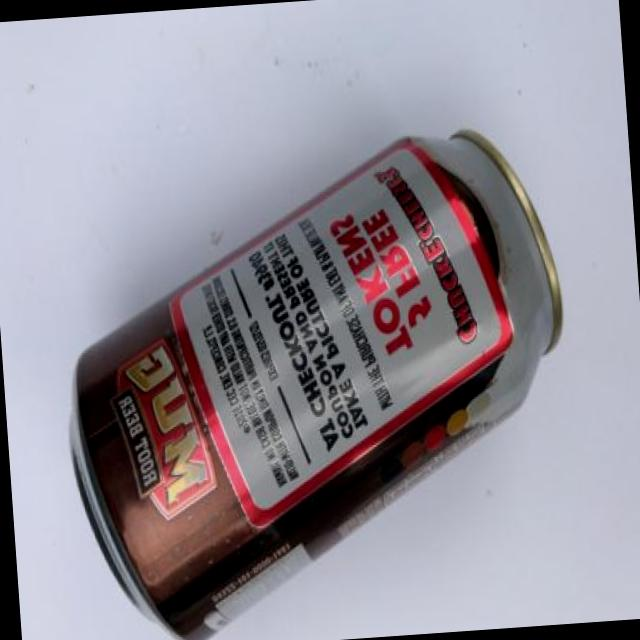kim_loai: (68, 128, 563, 640)
